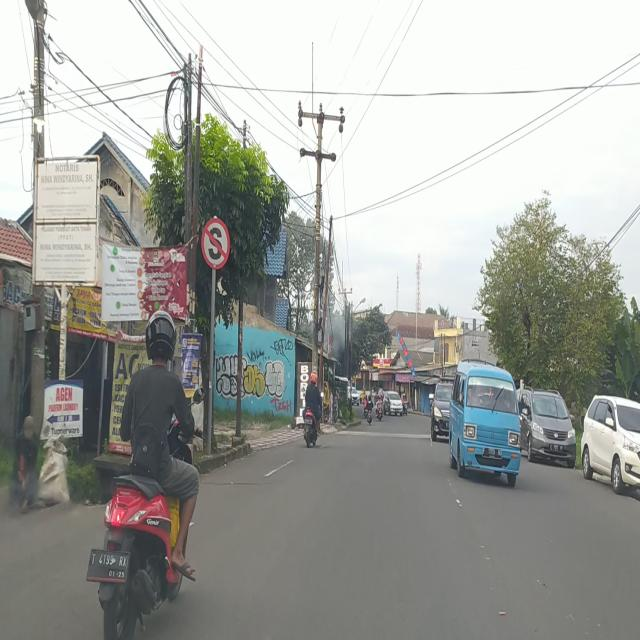Sewer Cover: (200, 478, 273, 489)
